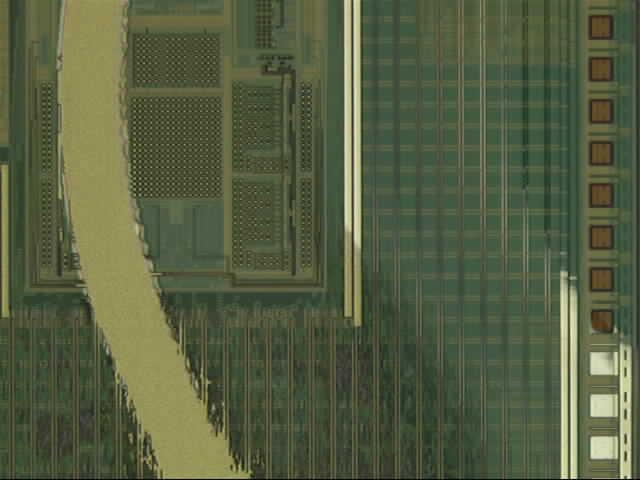COATING BAD: (53, 1, 640, 480)
